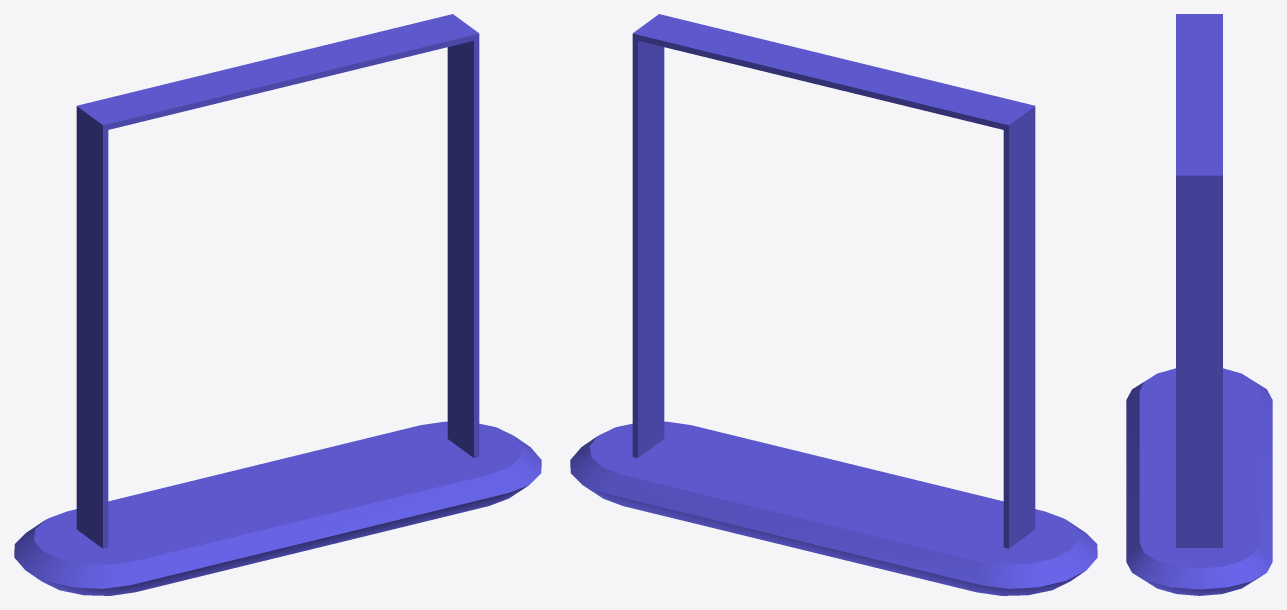
File: molbert.fbx
The picture shows the model from 3 angles, left to right: view 1: azimuth 30°, elevation 25°; view 2: azimuth 150°, elevation 25°; view 3: azimuth 270°, elevation 25°; orthographic projection. The views are drawn at different scales.
Parts seen in each view (by area): view 1: molbert; view 2: molbert; view 3: molbert.
Part boxes in pixels (<box>): molbert: <box>14,14,541,595</box>; molbert: <box>570,14,1097,595</box>; molbert: <box>1126,14,1272,595</box>.
Size of the model in its own units: 8.58 by 7.38 by 2.44.
